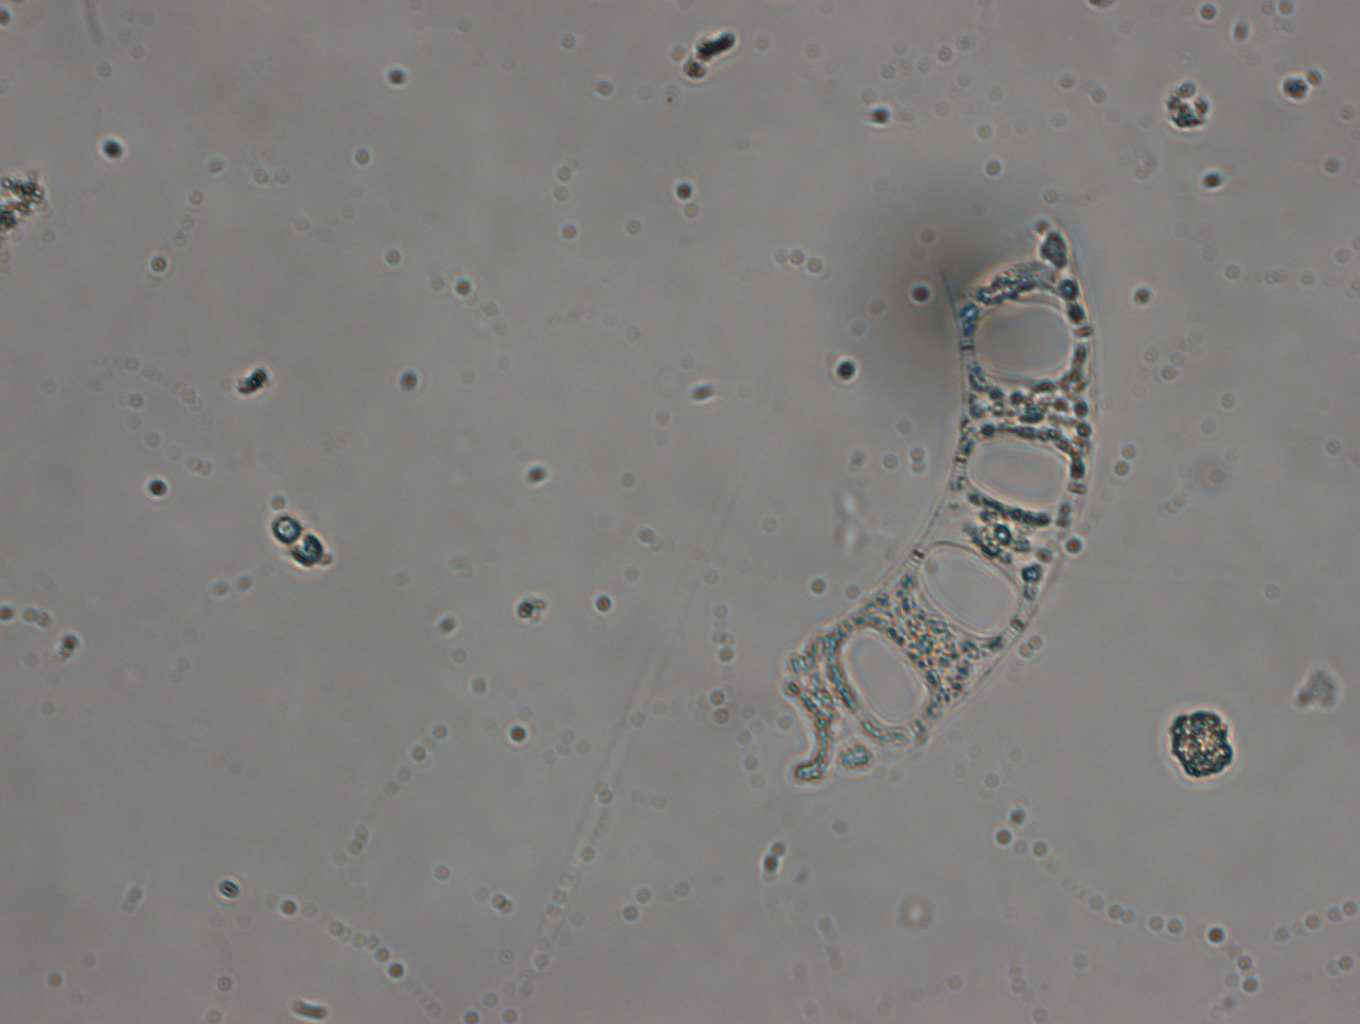eucampia: (775, 201, 1096, 790)
